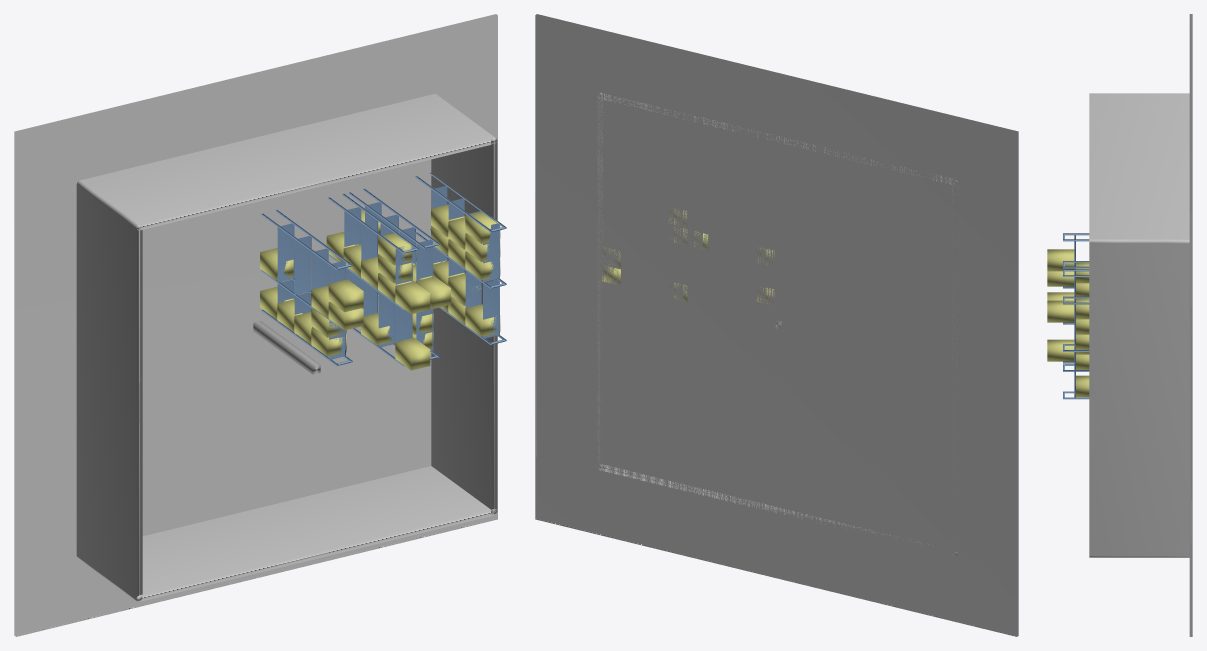
3 renders of one model, left to right at view 1: azimuth 30°, elevation 25°; view 2: azimuth 150°, elevation 25°; view 3: azimuth 270°, elevation 25°, orthographic. The views are drawn at different scales.
Size of the model in its own units: 30361 by 30361 by 9430.
